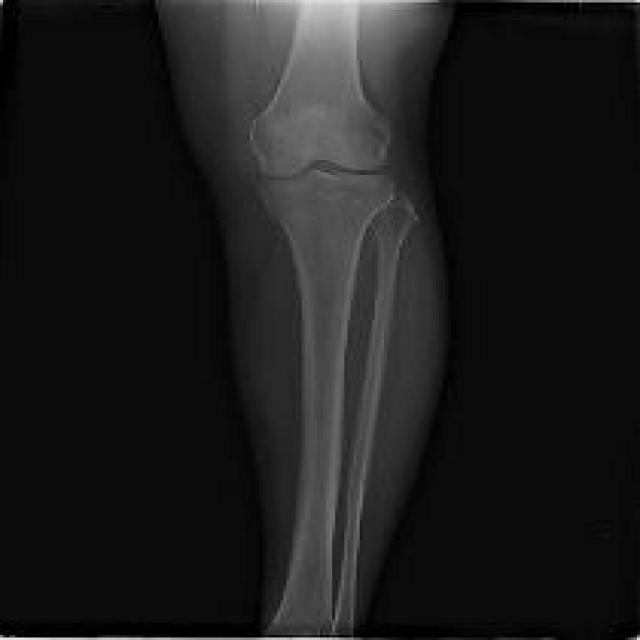normal: (253, 2, 414, 636)
